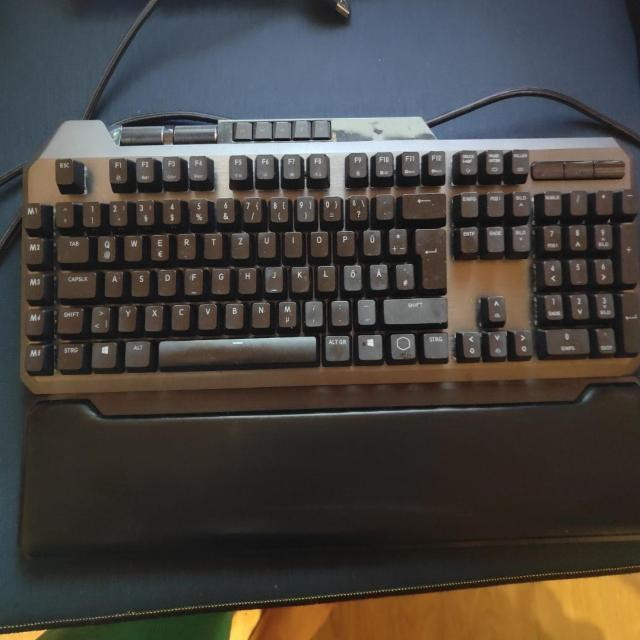0: (320, 193, 342, 221)
1: (81, 198, 101, 226)
2: (108, 197, 128, 225)
3: (134, 198, 154, 225)
4: (161, 196, 181, 223)
5: (188, 195, 208, 224)
6: (215, 195, 235, 222)
7: (242, 195, 262, 222)
8: (268, 195, 288, 222)
9: (294, 194, 315, 221)
a: (103, 268, 123, 296)
accent: (374, 192, 393, 219)
ae: (368, 261, 388, 289)
alt-left: (123, 337, 150, 367), (117, 0, 144, 10)
altgr-right: (322, 331, 351, 361)
b: (224, 300, 244, 328)
c: (170, 301, 190, 329)
caret: (54, 199, 74, 226)
comma: (303, 298, 323, 326)
d: (156, 267, 176, 294)
del: (400, 191, 446, 218)
e: (149, 232, 169, 260)
enter: (413, 226, 447, 291)
f: (183, 265, 203, 294)
g: (210, 265, 230, 293)
h: (236, 265, 257, 293)
hash: (394, 262, 414, 289)
i: (283, 229, 302, 256)
j: (263, 264, 283, 291)
k: (289, 263, 310, 292)
keyboard: (17, 115, 640, 417)
l: (315, 263, 335, 291)
less: (90, 303, 110, 332)
m: (276, 297, 297, 327)
minus: (356, 297, 375, 324)
n: (250, 299, 270, 327)
o: (308, 228, 329, 255)
oe: (343, 262, 362, 289)
p: (335, 229, 355, 256)
plus: (387, 226, 407, 253)
point: (330, 297, 349, 325)
q: (95, 233, 116, 261)
r: (175, 231, 196, 258)
s: (130, 267, 149, 295)
shift-left: (56, 304, 84, 333)
shift-lock: (56, 268, 96, 298)
shift-right: (382, 295, 448, 324)
space: (156, 335, 318, 368)
ss: (347, 193, 367, 220)
strg-left: (57, 341, 84, 371), (56, 0, 83, 12)
strg-right: (421, 329, 449, 359)
t: (202, 230, 222, 258)
tab: (55, 233, 89, 262)
u: (256, 229, 276, 257)
ue: (362, 227, 381, 254)
v: (196, 300, 217, 328)
w: (123, 233, 142, 260)
x: (144, 302, 164, 330)
y: (117, 303, 136, 331)
z: (229, 230, 249, 258)
